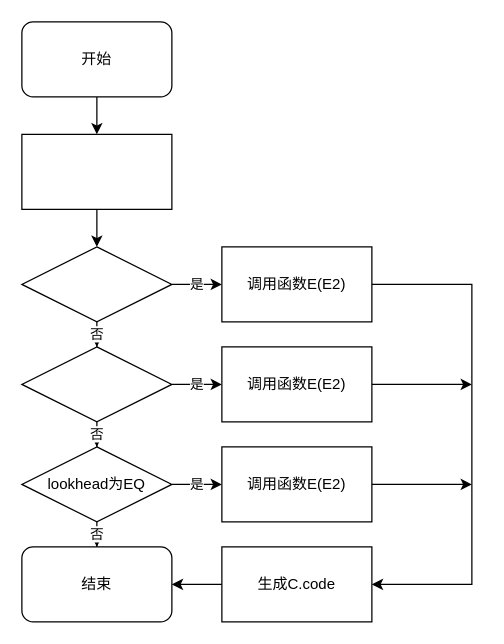
Image size: 504x644. Some labels were removed from this diagram. The centre of each missing label's shape, as x and y in pixels:
"lookhead为GT" goes at (x=96, y=284).
"lookhead为LT" goes at (x=96, y=384).
"调用函数E(E1)" goes at (x=96, y=171).
